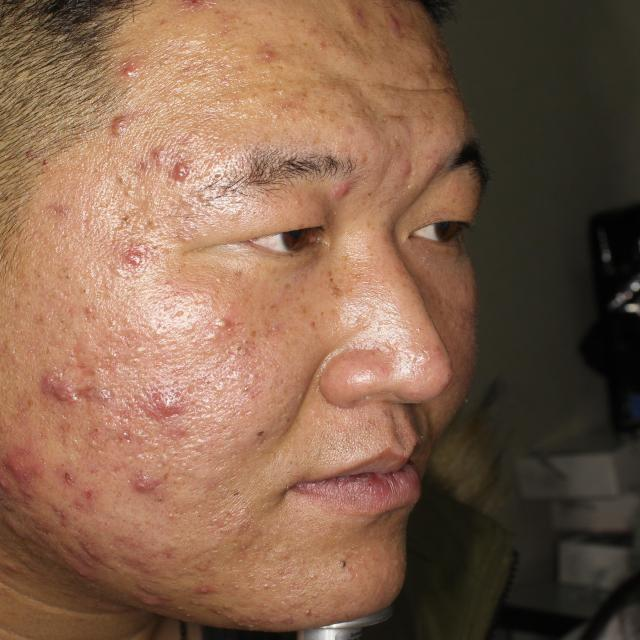Acne: (2, 432, 113, 566), (22, 354, 138, 426), (335, 0, 429, 58), (115, 558, 224, 604), (138, 128, 208, 189), (248, 582, 322, 634), (122, 454, 188, 510), (96, 32, 162, 84), (213, 312, 272, 368), (74, 282, 142, 328), (150, 386, 218, 428), (88, 99, 142, 144), (109, 218, 154, 270), (312, 544, 372, 583), (320, 260, 366, 304), (247, 25, 290, 69), (336, 167, 376, 213), (365, 92, 403, 134), (41, 205, 68, 234), (178, 0, 203, 30), (249, 428, 271, 459)
